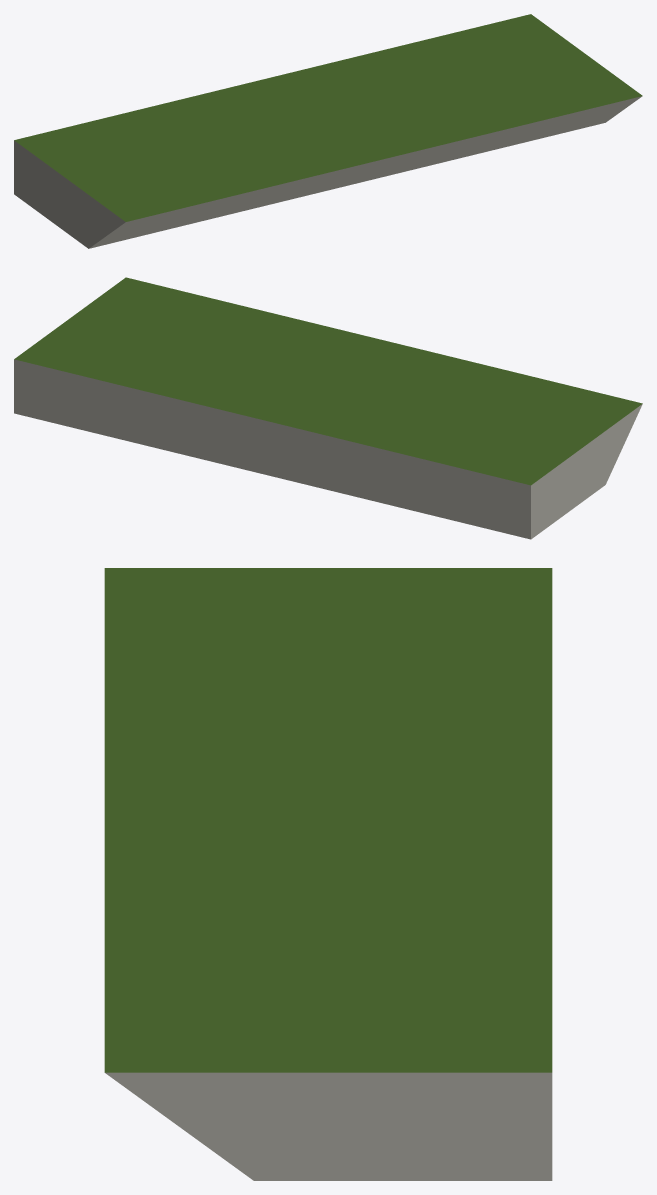
Rendered from Terrain_Modular_Tiles_Grass_Rock_Cliff_Edge_Straight_Outer_01.fbx.
3 views of the same model, one above another, from view 1: azimuth 30°, elevation 25°; view 2: azimuth 150°, elevation 25°; view 3: azimuth 270°, elevation 25° (orthographic). The views are drawn at different scales.
Parts seen in each view (by area): view 1: Terrain_Modular_Tiles_Grass_Rock_Cliff_Edge_Straight_Outer_0; view 2: Terrain_Modular_Tiles_Grass_Rock_Cliff_Edge_Straight_Outer_0; view 3: Terrain_Modular_Tiles_Grass_Rock_Cliff_Edge_Straight_Outer_0.
Part boxes in pixels (x1,y1,x2,y2): Terrain_Modular_Tiles_Grass_Rock_Cliff_Edge_Straight_Outer_0: [14, 14, 642, 248]; Terrain_Modular_Tiles_Grass_Rock_Cliff_Edge_Straight_Outer_0: [14, 277, 642, 539]; Terrain_Modular_Tiles_Grass_Rock_Cliff_Edge_Straight_Outer_0: [104, 568, 552, 1180].
Bounding box in the file's own units: 118 × 11.81 × 44.29.
